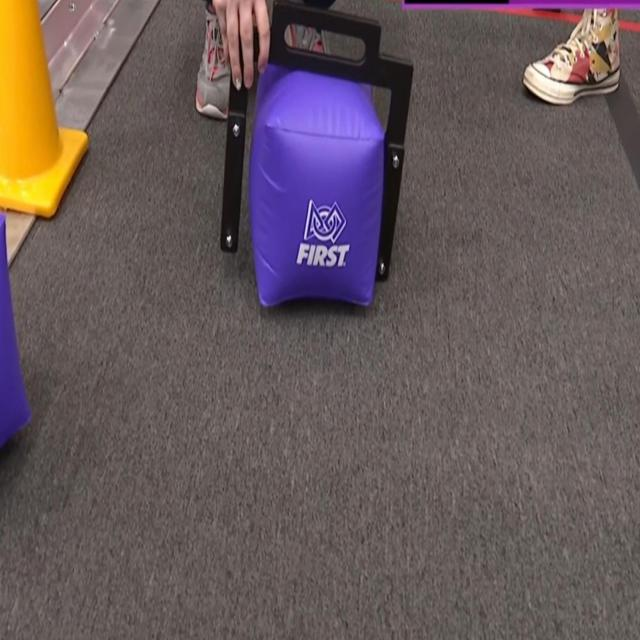frc_cone: (0, 0, 90, 214)
frc_cube: (248, 56, 381, 318), (0, 208, 32, 459)
